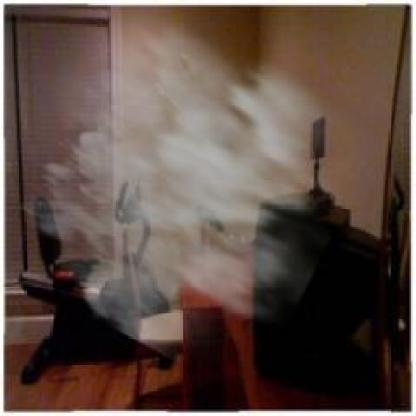Smoke: (17, 8, 386, 372)
